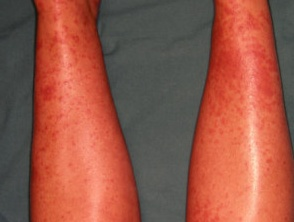SJS-TEN: (183, 0, 294, 222), (31, 0, 120, 155)
